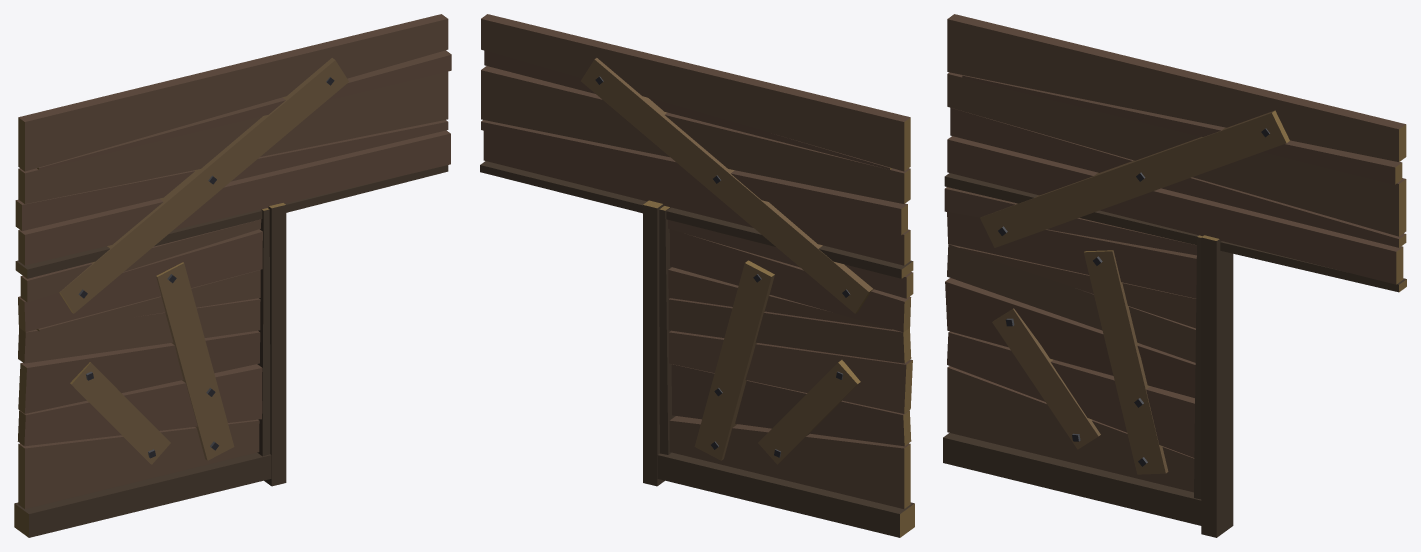
The model's file is Wall_1I_Door_4m.fbx.
3 views of the same model, side by side, from view 1: azimuth 30°, elevation 25°; view 2: azimuth 150°, elevation 25°; view 3: azimuth 330°, elevation 25° (orthographic). The views are drawn at different scales.
Visible parts, largest first — view 1: pCube2415; view 2: pCube2415; view 3: pCube2415.
Boxes of the visible parts, x1,y1,x2,y2 form: pCube2415: (14,14,451,537); pCube2415: (480,14,914,537); pCube2415: (943,14,1406,537).
Size of the model in its own units: 400 by 379 by 25.41.
